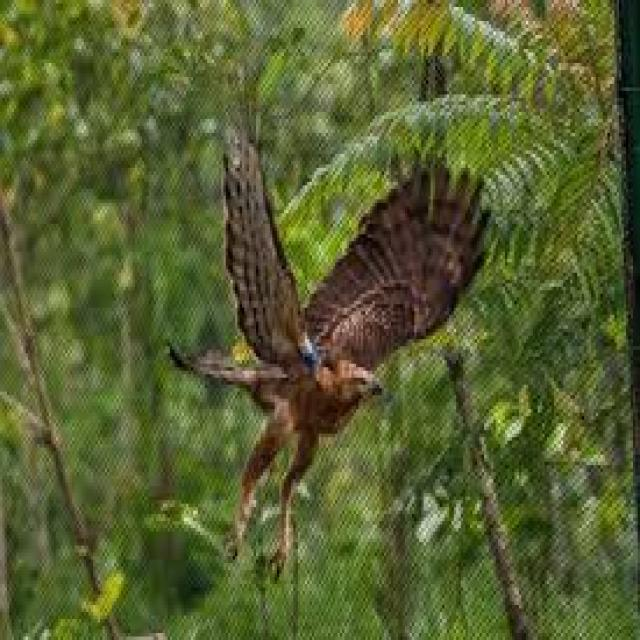Elang Jawa: (142, 102, 500, 590)
